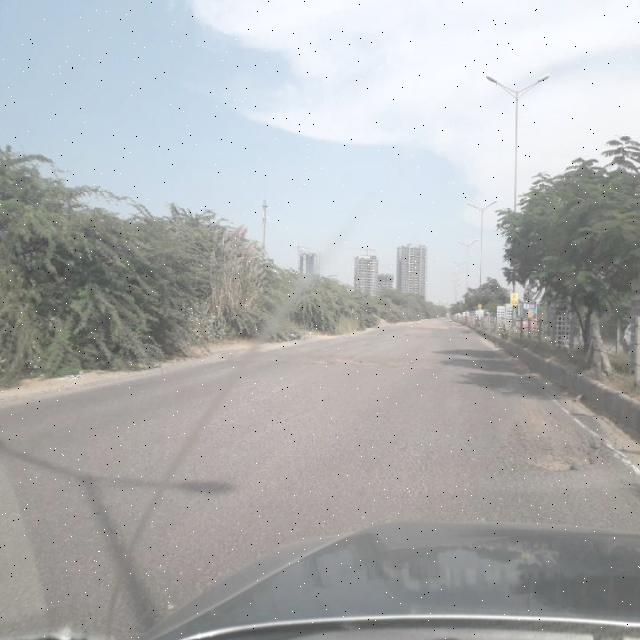D40: (296, 347, 439, 381), (496, 431, 599, 471)
